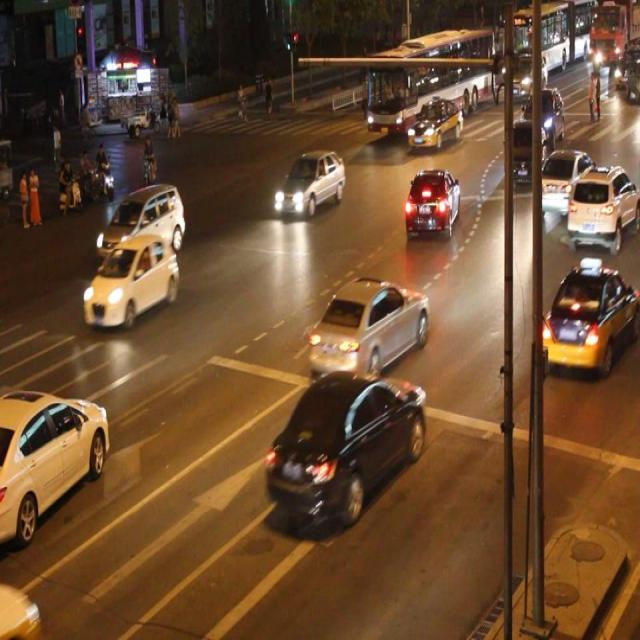car: (264, 368, 424, 519), (1, 389, 110, 540), (308, 275, 428, 376), (539, 266, 640, 368), (83, 234, 179, 327), (98, 183, 185, 260), (565, 167, 640, 245), (274, 149, 343, 216), (532, 146, 592, 214), (403, 167, 458, 241), (504, 120, 546, 191), (406, 99, 462, 148)
van: (366, 30, 492, 121)
